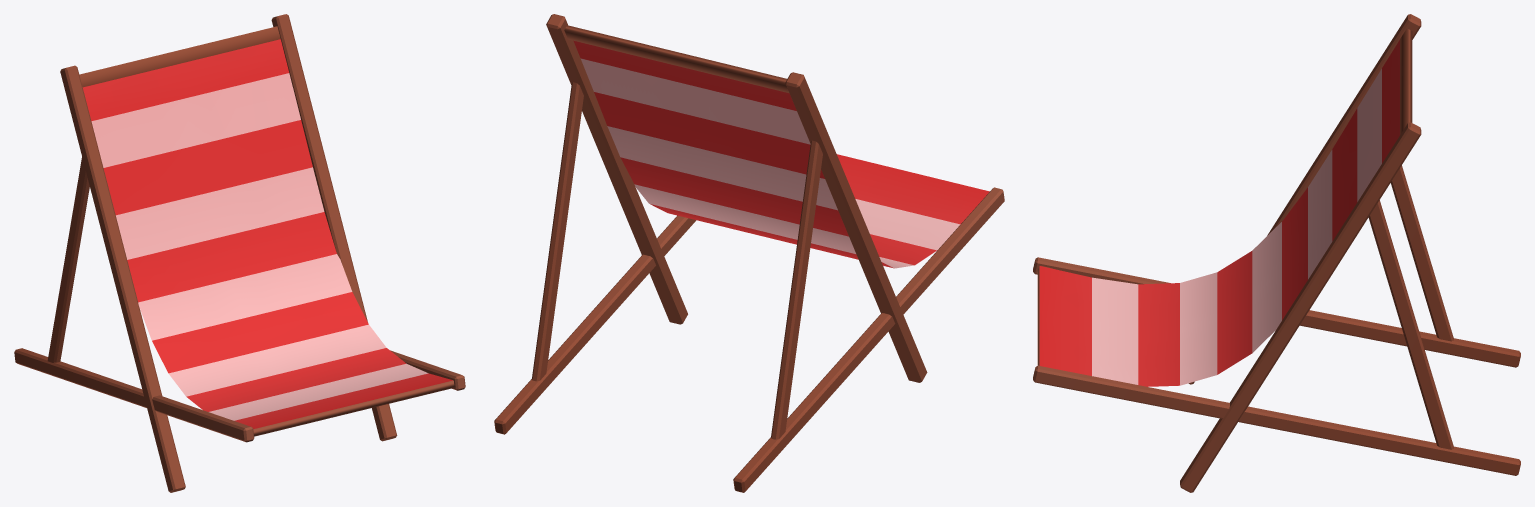
Rendered from sunbed.fbx.
3 views of the same model, side by side, from view 1: azimuth 30°, elevation 25°; view 2: azimuth 150°, elevation 25°; view 3: azimuth 270°, elevation 25° (orthographic). The views are drawn at different scales.
Parts seen in each view (by area): view 1: sunbed; view 2: sunbed; view 3: sunbed.
Part boxes in pixels (x1,y1,x2,y2): sunbed: [14, 14, 465, 492]; sunbed: [494, 14, 1004, 492]; sunbed: [1033, 14, 1520, 492].
Size of the model in its own units: 220 by 327 by 395.
